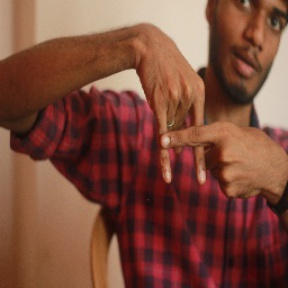H: (135, 83, 236, 188)
